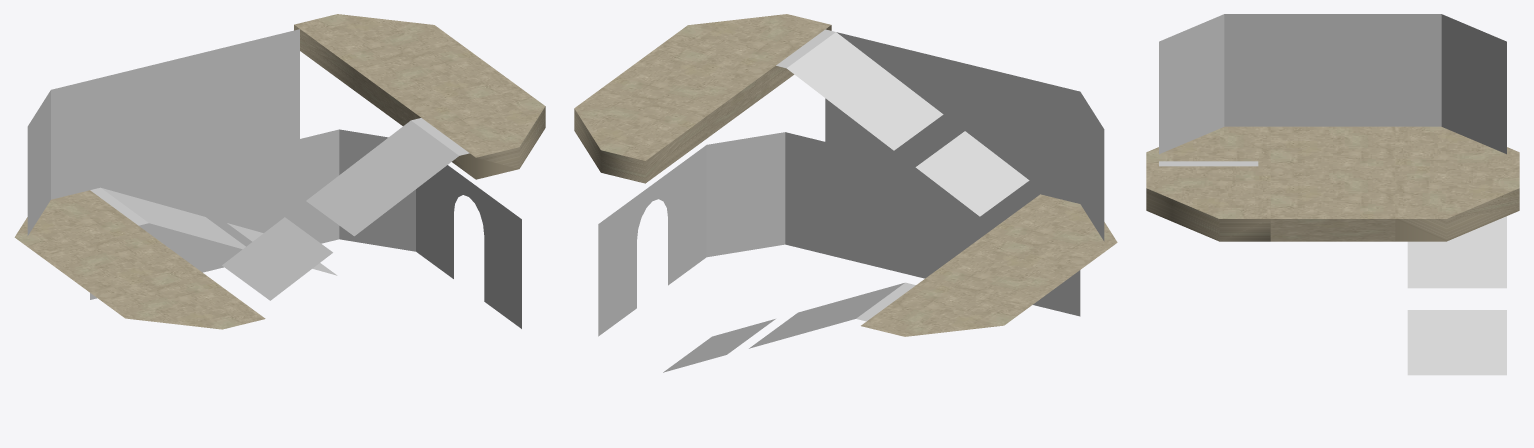
Rendered from LibraryStairsNewColliders-transformed.glb.
The picture shows the model from 3 angles, left to right: view 1: azimuth 30°, elevation 25°; view 2: azimuth 150°, elevation 25°; view 3: azimuth 270°, elevation 25°; orthographic projection. The views are drawn at different scales.
Visible parts, largest first — view 1: ramp, floor2; view 2: ramp, floor2; view 3: ramp, floor2.
Part boxes in pixels (bbox=[...]): ramp: bbox=[27, 29, 521, 328]; floor2: bbox=[14, 14, 545, 329]; ramp: bbox=[598, 29, 1104, 372]; floor2: bbox=[574, 14, 1117, 336]; ramp: bbox=[1159, 14, 1506, 375]; floor2: bbox=[1146, 126, 1519, 241].
Size of the model in its own units: 4 by 2 by 3.
1 material, 1 textured.
